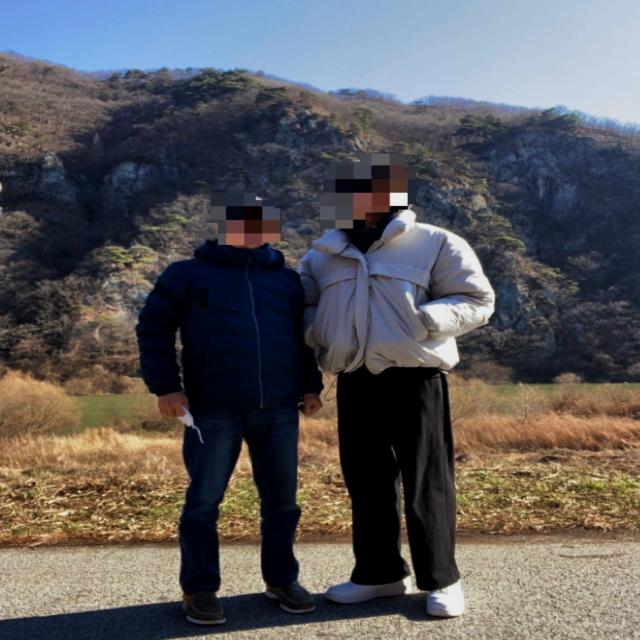denimpants: (340, 366, 460, 588), (176, 397, 300, 595)
padding: (304, 210, 496, 373), (138, 239, 322, 401)
